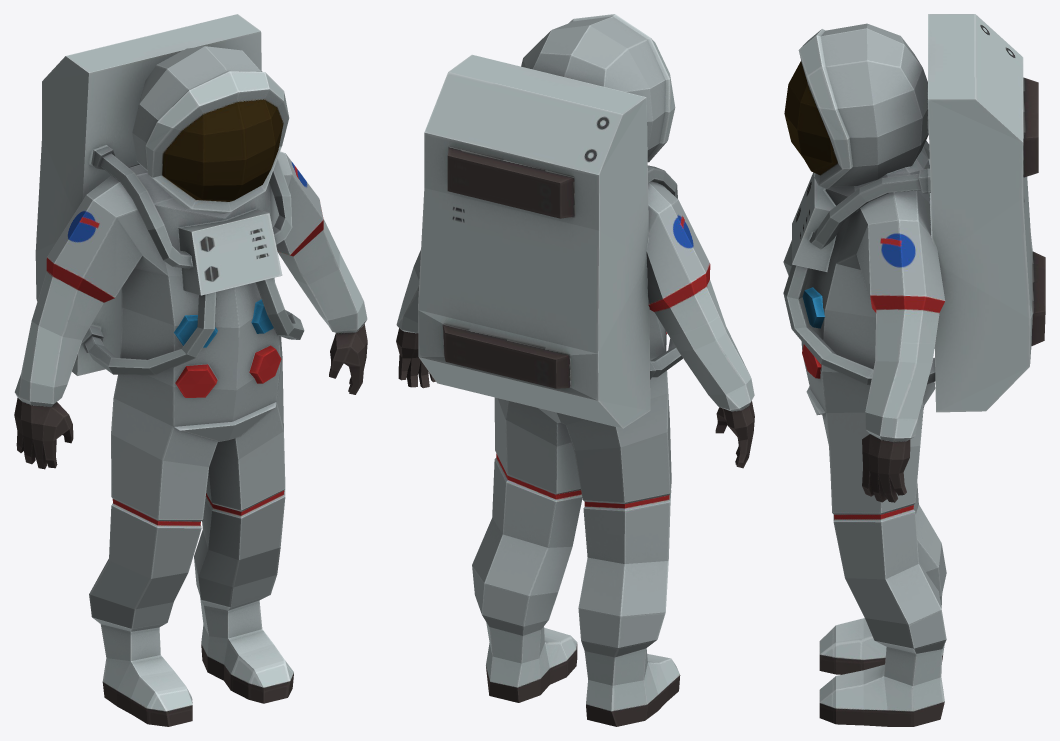
The model's file is Astronaut_compressed.glb.
3 renders of one model, left to right at view 1: azimuth 30°, elevation 25°; view 2: azimuth 150°, elevation 25°; view 3: azimuth 270°, elevation 25°, orthographic.
Visible parts, largest first — view 1: 000_Astronaut; view 2: 000_Astronaut; view 3: 000_Astronaut.
Part boxes in pixels (<box>): 000_Astronaut: <box>14,14,367,726</box>; 000_Astronaut: <box>396,14,754,726</box>; 000_Astronaut: <box>783,14,1045,726</box>.
Bounding box in the file's own units: 22.4 × 40.22 × 14.48.
1 material, 1 textured.
